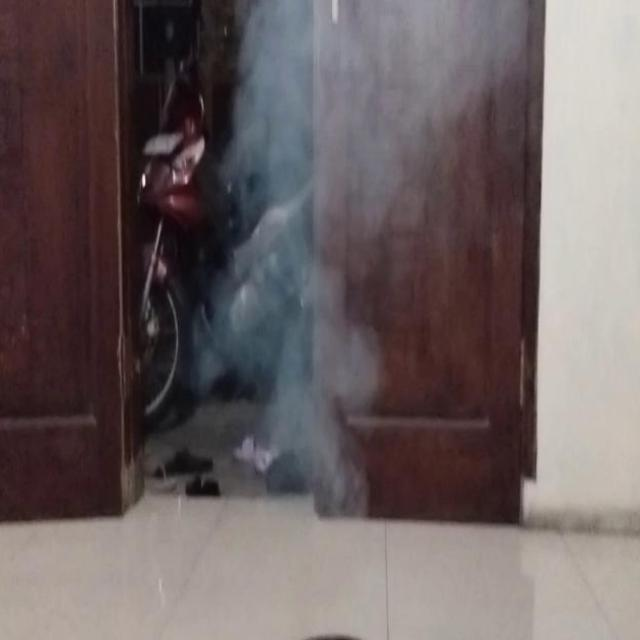fire: (219, 0, 484, 206), (219, 170, 374, 490)
